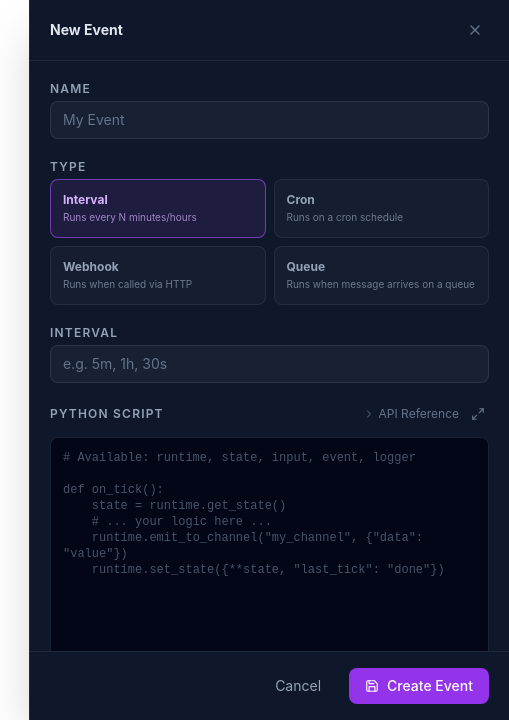
it: EventFormPanel › shows webhook URL placeholder for webhook type
Step 1. Click the text "Webhook" → (91, 266), box [63, 259, 119, 274]
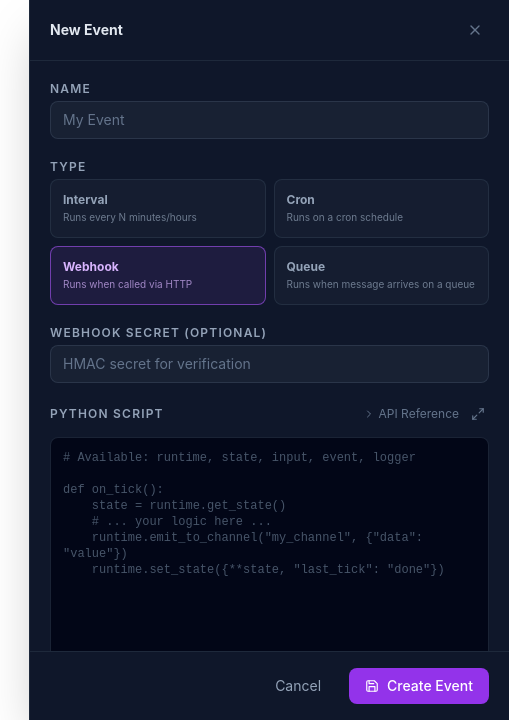
Expected: the field with placeholder "HMAC secret for verification" is shown, [50, 345, 489, 383]
